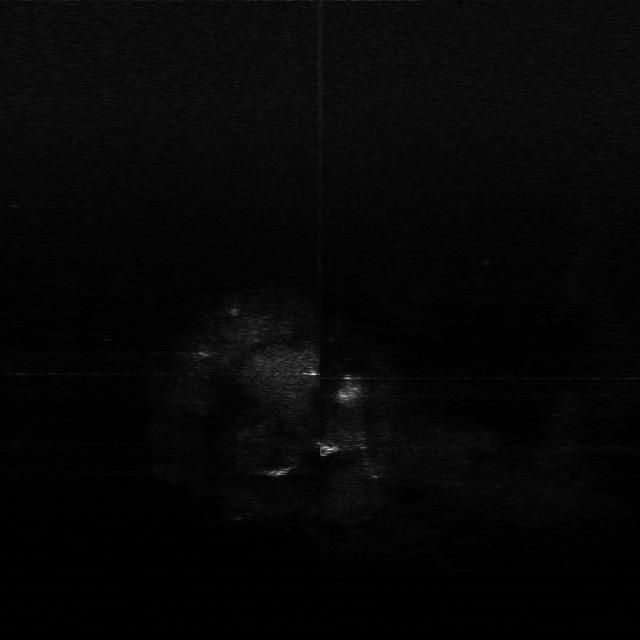rov: (314, 439, 340, 458)
